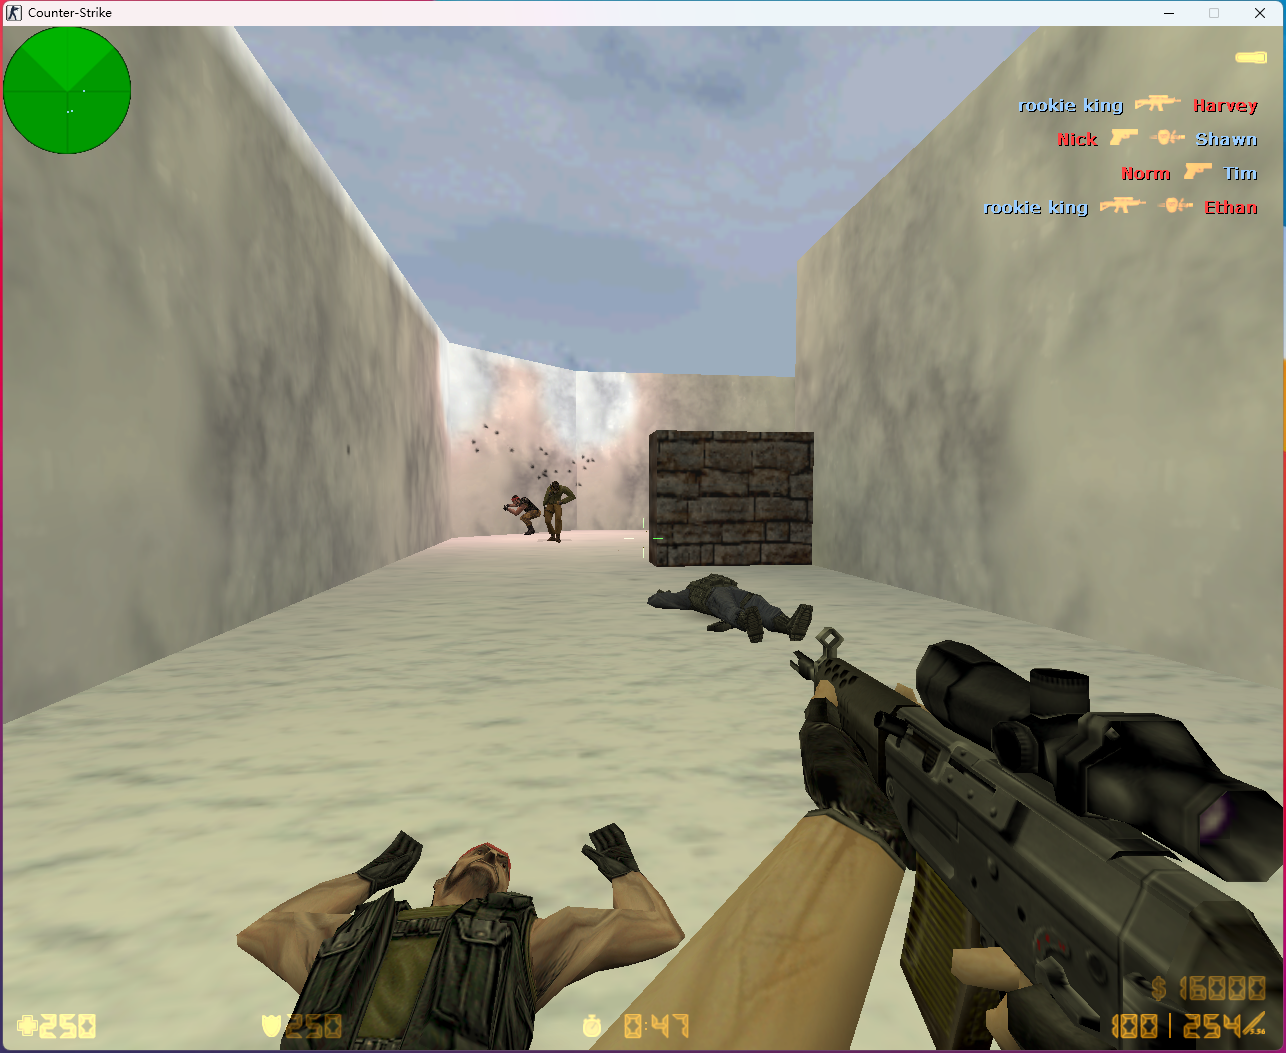T: (542, 480, 575, 543), (501, 492, 542, 534)
dead: (242, 826, 687, 1053), (644, 575, 819, 645)
